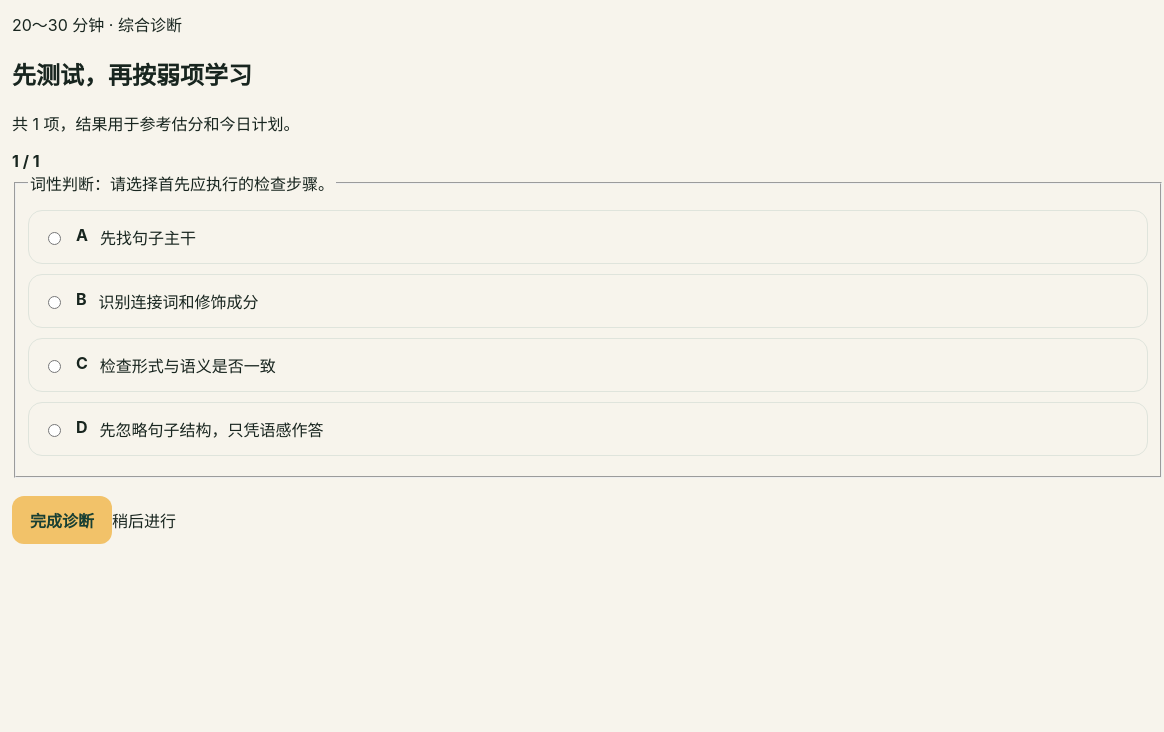
Scenario: foundation diagnostic › shows tested percentages and the selected learning priority after completion
The width and height of the screenshot is (1164, 732).
Click the radio button labelled "A 先找句子主干": [54, 239] box [48, 228, 61, 249]
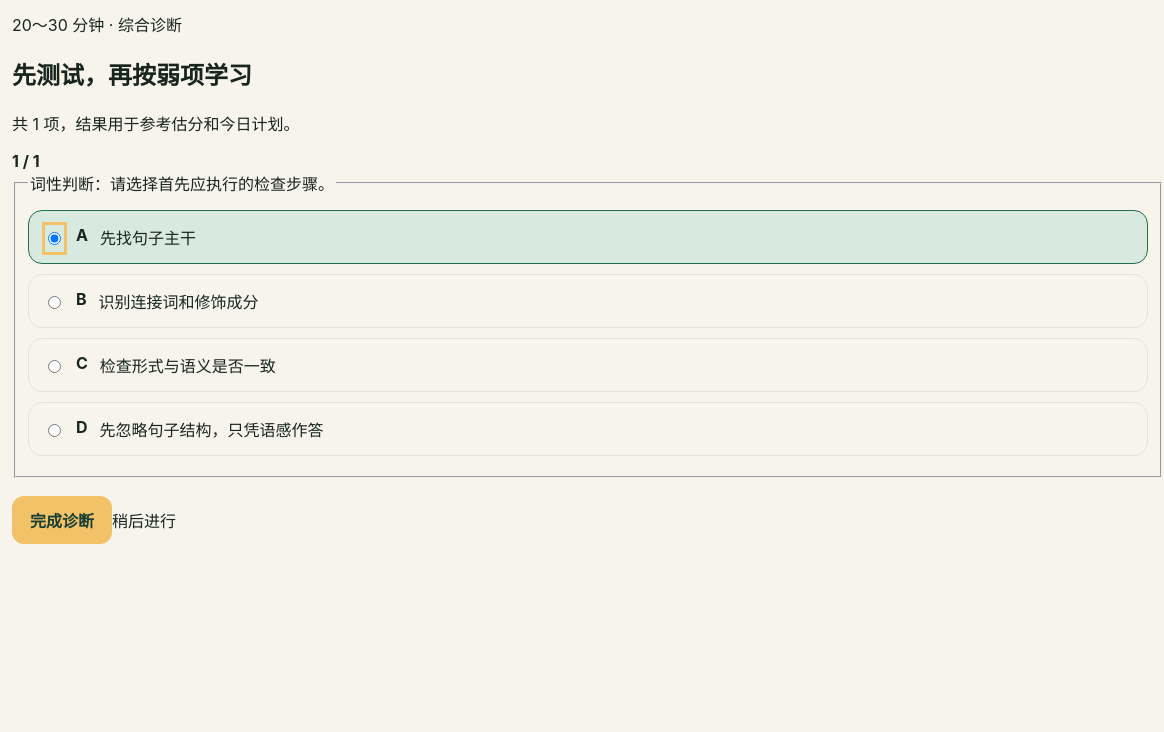
Click the button "完成诊断": [62, 520] box [12, 496, 112, 544]
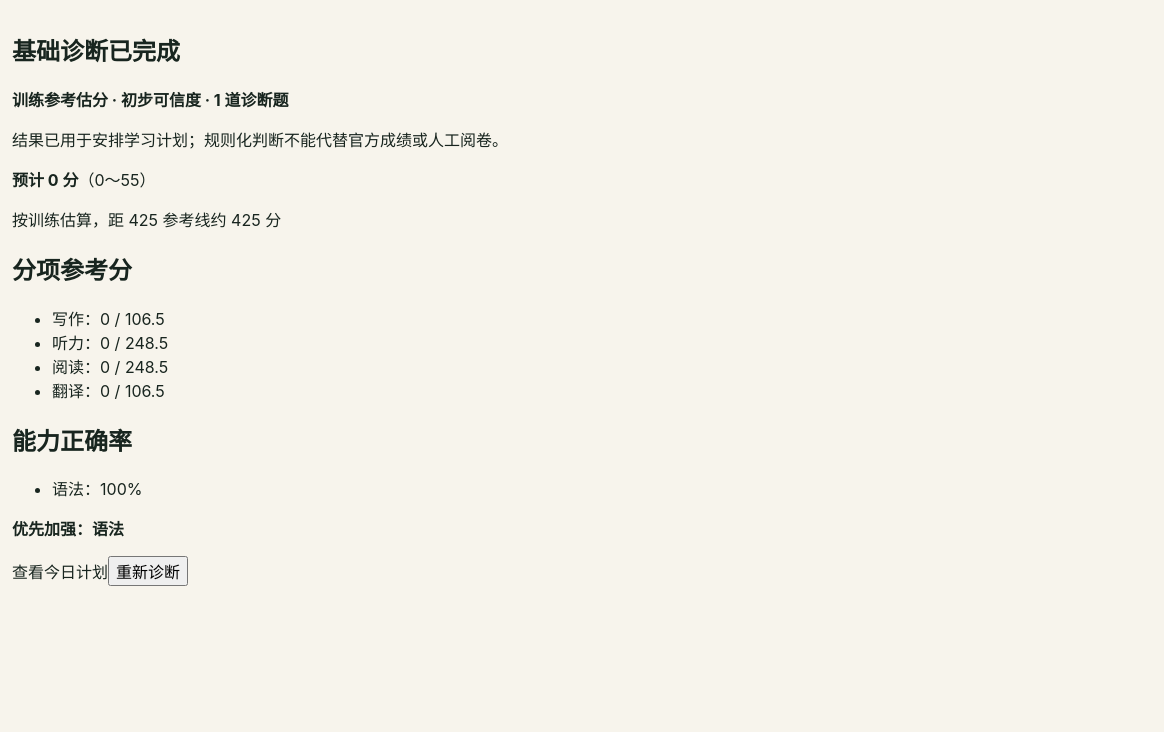
expect the list item "语法：100%" is shown: met, box [52, 479, 142, 499]
expect the text "优先加强：语法" is shown: met, box [12, 519, 124, 539]
expect the text "按训练估算，距 425 参考线约 425 分" is shown: met, box [12, 210, 281, 230]
